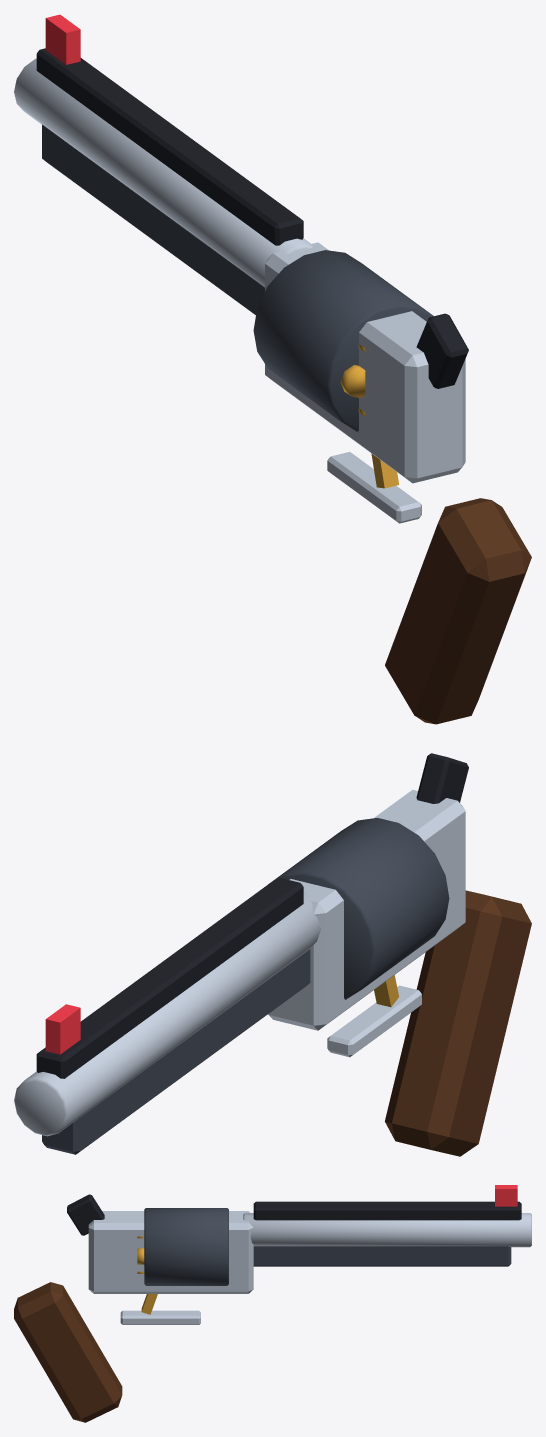
File: gun_revolver.obj
The picture shows the model from 3 angles, top to bottom: view 1: azimuth 30°, elevation 25°; view 2: azimuth 150°, elevation 25°; view 3: azimuth 270°, elevation 25°; orthographic projection. The views are drawn at different scales.
Visible parts, largest first — view 1: Grip, Drum, Frame, Barrel, TopRib, Underlug, TrigGuard, Hammer, FrontSight; view 2: Grip, Drum, Barrel, Frame, TopRib, Underlug, TrigGuard, Hammer, FrontSight, Trigger; view 3: Grip, Barrel, Frame, Drum, Underlug, TopRib, TrigGuard, Hammer, FrontSight.
Part boxes in pixels (bbox=[...]): Grip: bbox=[385, 498, 531, 724]; Drum: bbox=[253, 250, 433, 431]; Frame: bbox=[265, 242, 465, 483]; Barrel: bbox=[14, 58, 313, 286]; TopRib: bbox=[36, 48, 303, 245]; Underlug: bbox=[42, 124, 264, 314]; TrigGuard: bbox=[327, 452, 421, 523]; Hammer: bbox=[416, 313, 468, 388]; FrontSight: bbox=[45, 14, 80, 64]; Grip: bbox=[385, 890, 531, 1156]; Drum: bbox=[278, 818, 449, 999]; Barrel: bbox=[14, 892, 320, 1136]; Frame: bbox=[268, 789, 465, 1030]; TopRib: bbox=[36, 877, 303, 1078]; Underlug: bbox=[42, 949, 310, 1154]; TrigGuard: bbox=[327, 985, 421, 1057]; Hammer: bbox=[416, 753, 468, 803]; FrontSight: bbox=[45, 1004, 80, 1054]; Trigger: bbox=[374, 975, 399, 1007]; Grip: bbox=[14, 1282, 122, 1422]; Barrel: bbox=[243, 1213, 531, 1247]; Frame: bbox=[88, 1211, 253, 1293]; Drum: bbox=[144, 1208, 228, 1285]; Underlug: bbox=[253, 1246, 511, 1266]; TopRib: bbox=[253, 1201, 521, 1220]; TrigGuard: bbox=[120, 1310, 200, 1324]; Hammer: bbox=[67, 1194, 104, 1235]; FrontSight: bbox=[495, 1185, 517, 1206].
Size of the model in its own units: 0.076 by 0.2473 by 0.5025.
